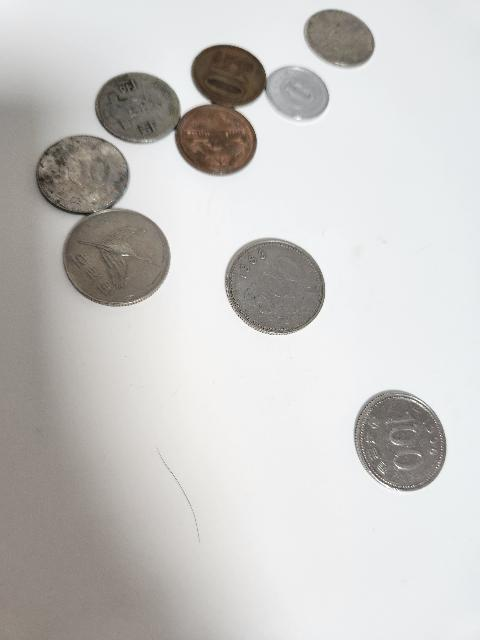coin: (220, 235, 331, 337), (353, 381, 449, 492), (65, 208, 165, 306), (38, 132, 126, 214), (95, 68, 177, 144), (176, 104, 260, 174), (193, 38, 265, 106), (306, 0, 376, 66), (268, 60, 330, 120)
